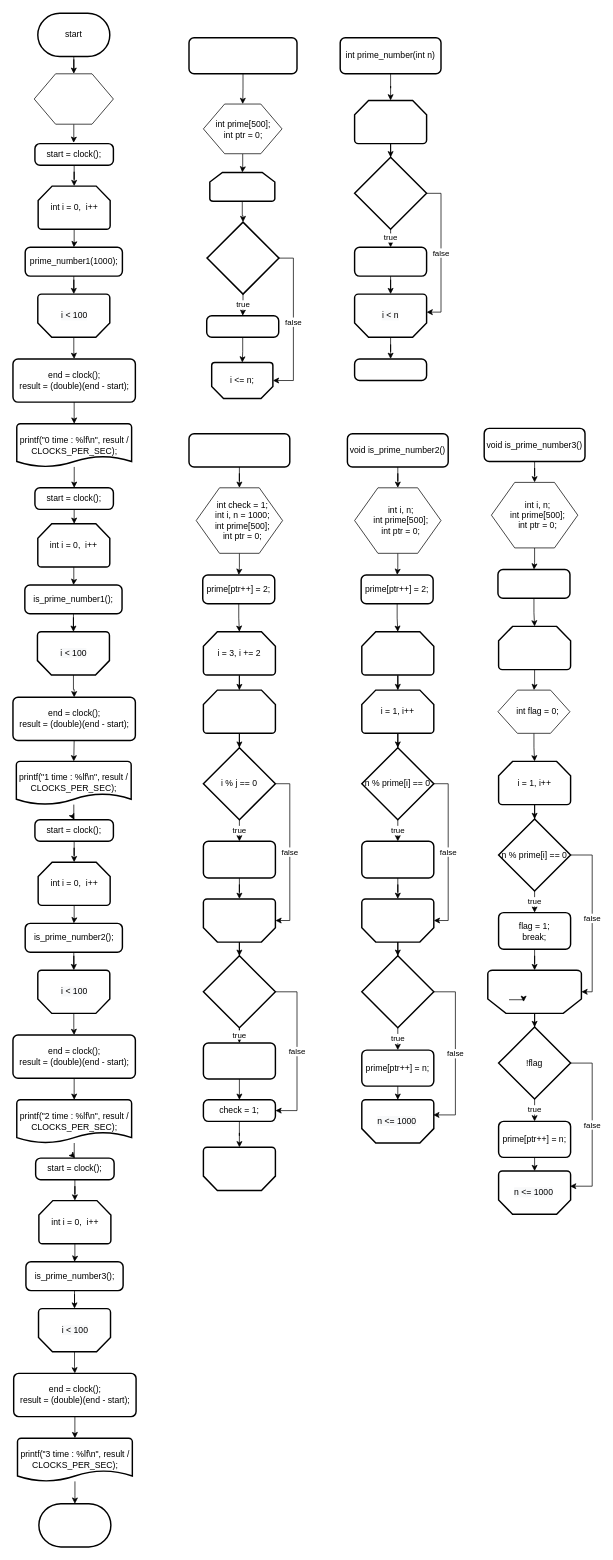
This 613x1560 diagram has some shape labels left out. The shapes that lost their labels are listed below. From the top down, each one's centre as x and y in pixels, then its label:
At (242,55): "void prime_number1(int n)".
At (73,98): "clock_t start, end; double result;".
At (390,121): "int i = 2; i < n; ++i".
At (242,186): "int i = 2, ++i".
At (390,193): "(n % i) == 0".
At (242,257): "prime_number(i)".
At (390,261): "return 0;".
At (242,326): "prime[ptr++]=i;".
At (390,369): "return 1;".
At (239,450): "void is_prime_number1()".
At (533,583): "prime[ptr++] = 2; prime[ptr++] = 3;".
At (397,653): "n = 3, n += 2".
At (534,647): "n = 5, n += 2".
At (239,711): "int j = 3,j+=2".
At (239,859): "check = 0; break;".
At (397,859): "break;".
At (239,920): "j < i".
At (397,920): "i < ptr".
At (239,991): "check == 1".
At (397,991): "ptr == i".
At (534,991): "prime[i] * prime[i] <= n".
At (239,1060): "prime[ptr++] = i;".
At (239,1168): "i <= n".
At (74,1525): "end".
